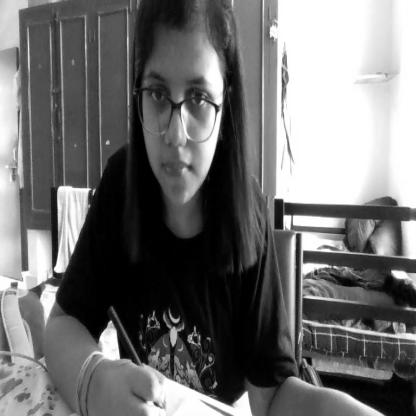Normal: (136, 0, 227, 210)
